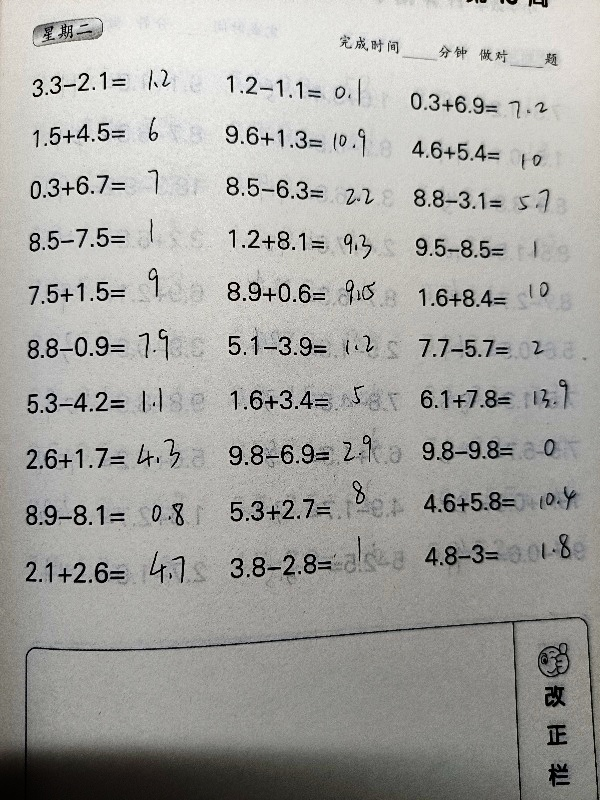equation: (221, 531, 399, 583), (17, 431, 197, 476), (219, 320, 399, 363), (216, 119, 396, 162), (17, 554, 197, 591), (18, 383, 198, 420), (18, 328, 198, 365), (17, 497, 197, 533), (221, 491, 401, 527), (219, 436, 399, 472), (222, 382, 402, 418), (20, 274, 200, 310), (20, 220, 200, 256), (217, 170, 397, 206), (415, 537, 595, 572), (414, 484, 594, 519), (414, 433, 594, 468), (218, 274, 398, 309), (220, 222, 400, 257), (21, 168, 201, 203), (25, 116, 205, 151), (23, 65, 203, 100), (412, 382, 592, 416), (411, 331, 591, 365), (411, 281, 591, 315), (406, 231, 586, 265), (404, 182, 584, 216), (218, 70, 398, 104), (403, 135, 583, 168), (401, 87, 581, 120)
